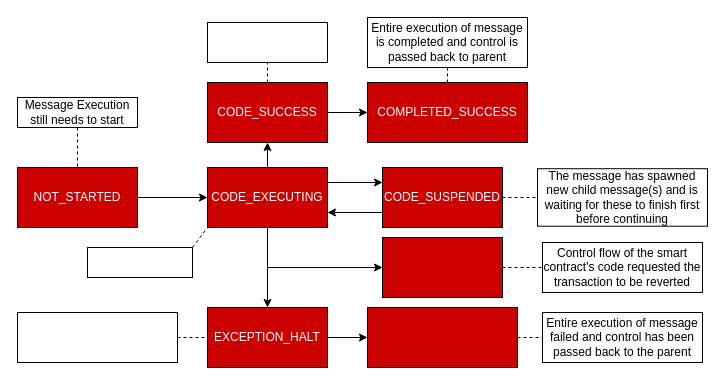
Some shapes in this 725 by 385 pixel diagram are drawn without their labels. Here are the shapes that lost their labels. From the top down, the centre of each, then its label:
the point at 267,42: Code of message was executed successfully
the point at 139,262: Message is being executed
the point at 442,267: REVERTED
the point at 97,337: Code execution failed due to an exception (such as stack overflow / underflow)
the point at 442,337: COMPLETED_FAILURE
